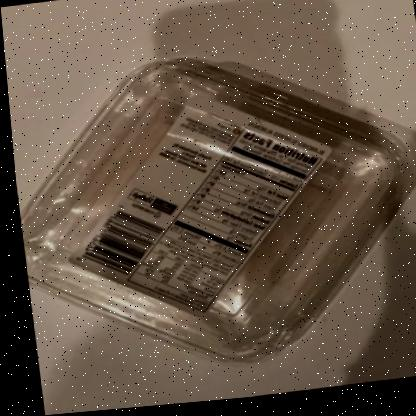Plastic: (18, 62, 416, 366)
